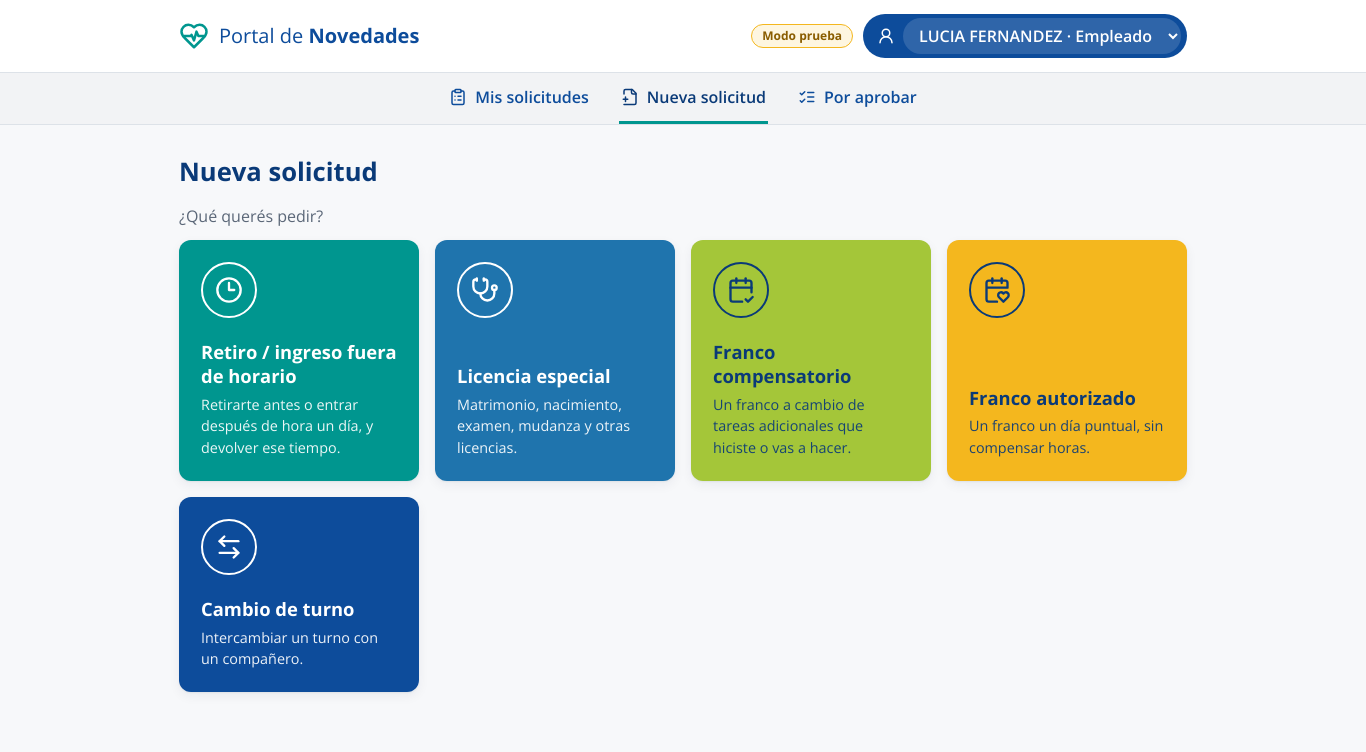
Test: Nueva solicitud › guarda un borrador
Later steps or results of the test are not shown.
Step 1. Click the button "Franco autorizado" → (1067, 360), box [947, 240, 1187, 481]
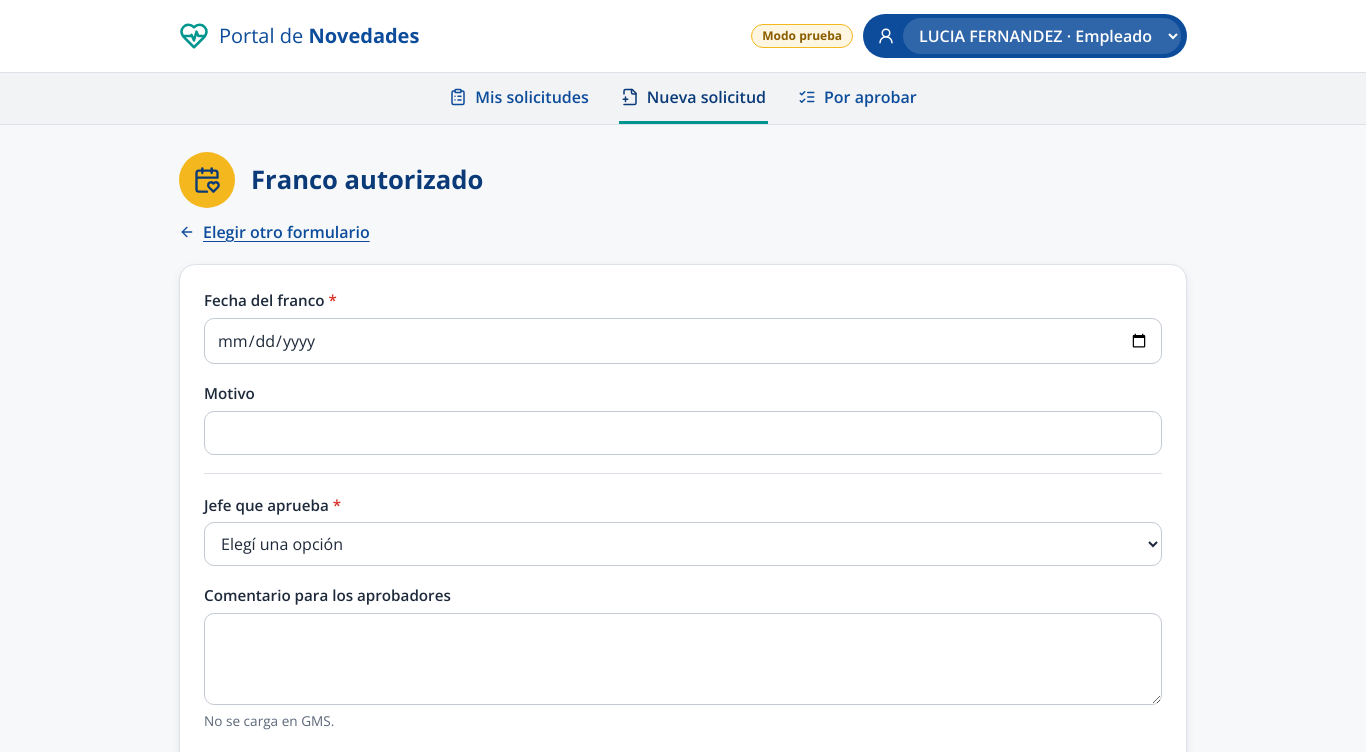
Step 2. Type "2026-12-02" into the date field labelled "Fecha del franco *" → (683, 341), box [204, 318, 1162, 364]
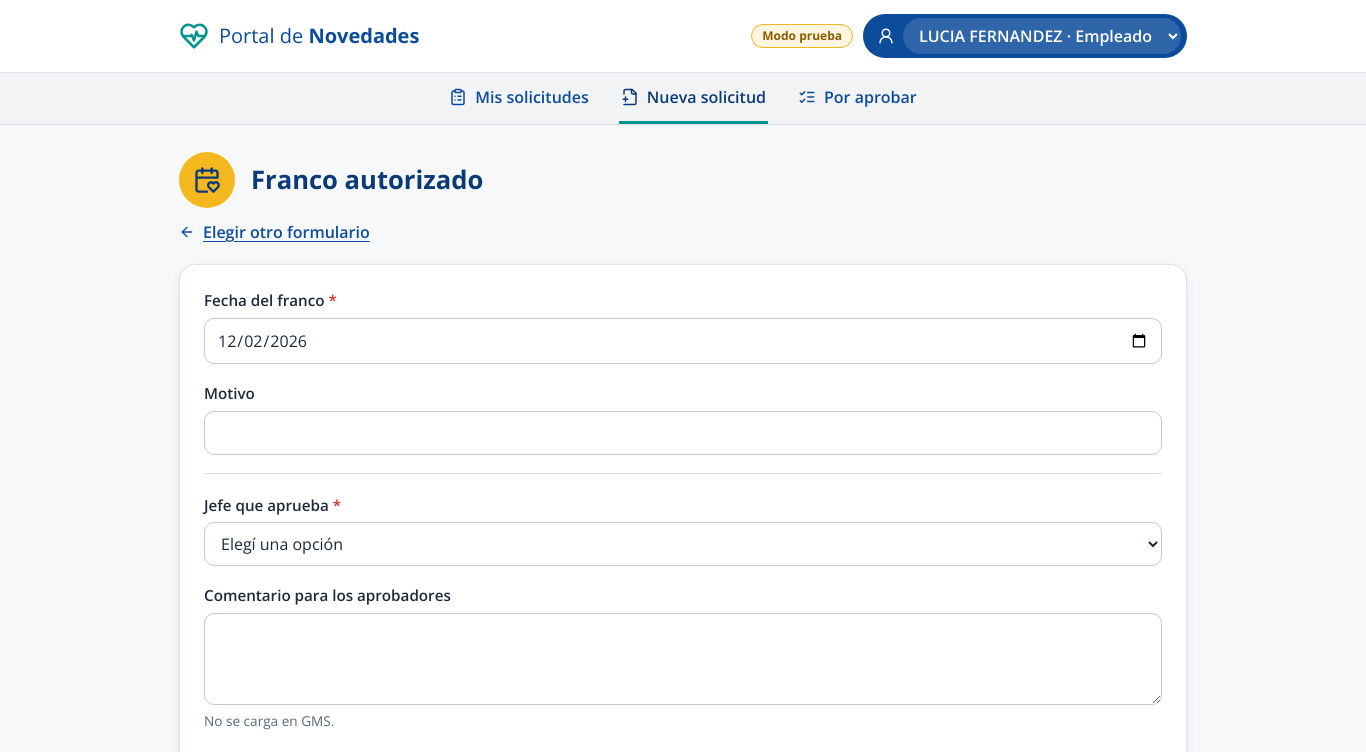
Step 3. Type "Cumpleaños" into the field labelled "Motivo" → (683, 433), box [204, 411, 1162, 455]
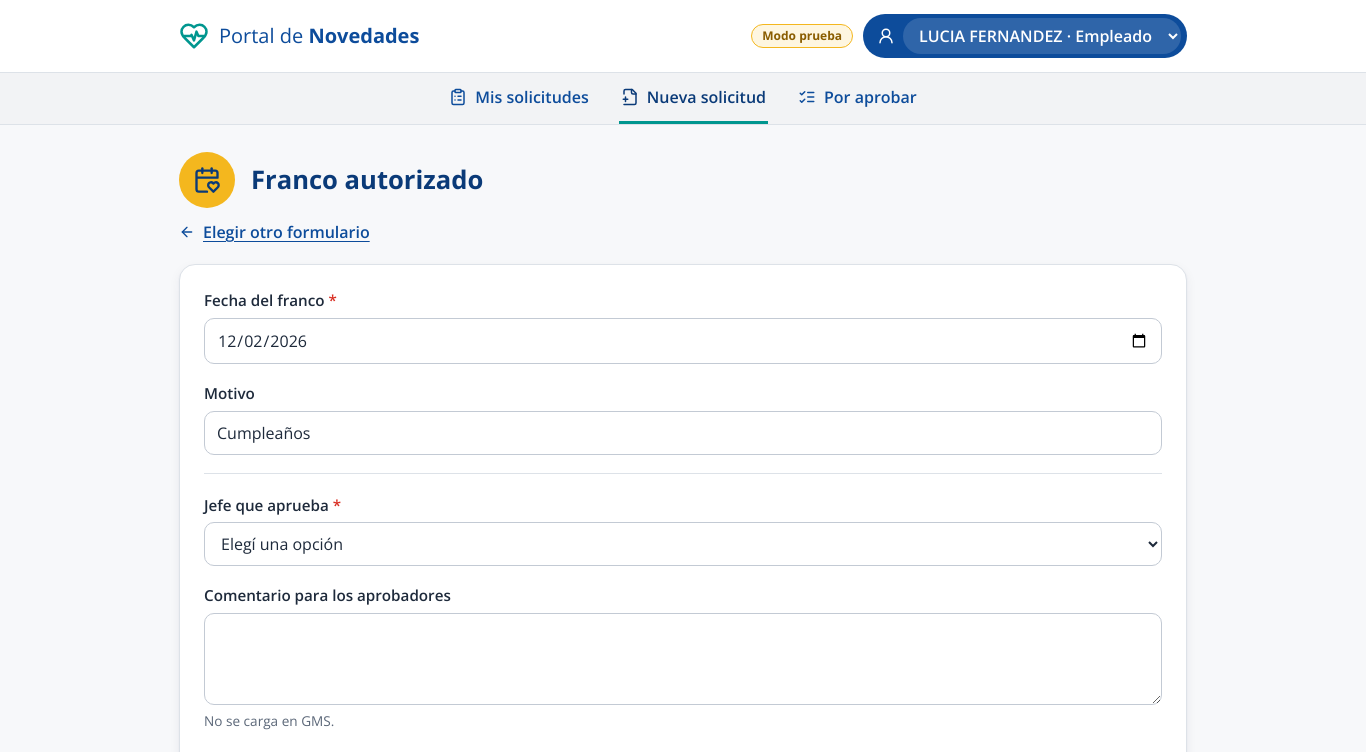
Step 4. Select "MARIA LOPEZ (2001)" in the dropdown labelled "Jefe que aprueba *" → (683, 544), box [204, 522, 1162, 566]
(page scrolled)
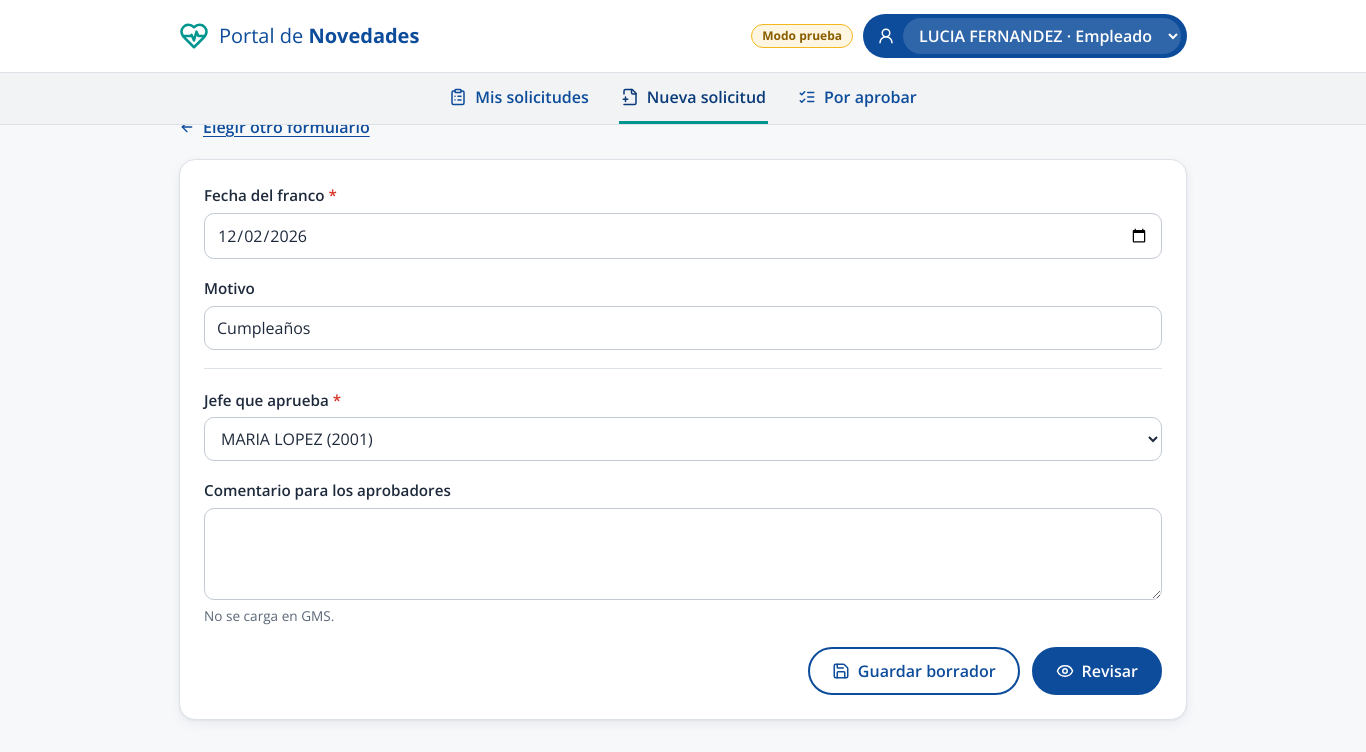
Step 5. Click the button "Guardar borrador" → (914, 671), box [808, 647, 1020, 695]
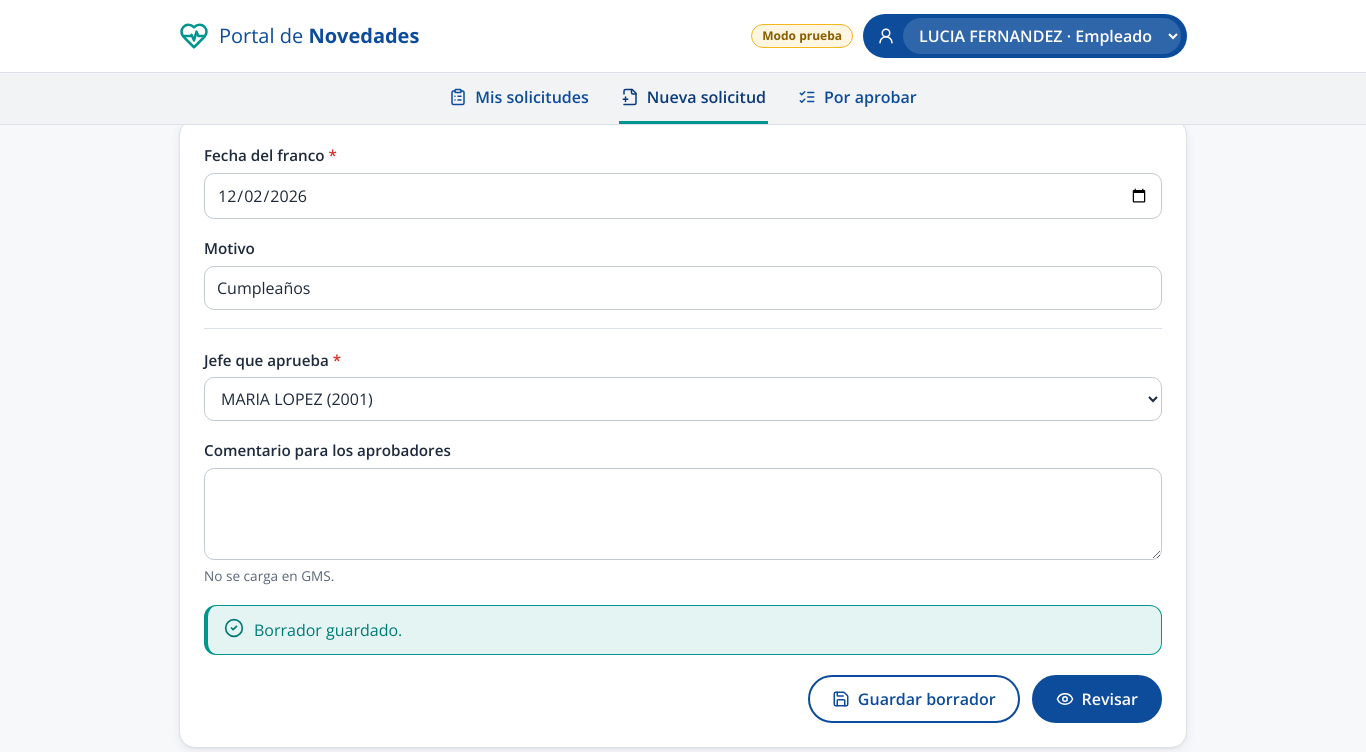
Check: the text "Borrador guardado." is shown, box [254, 618, 402, 642]
